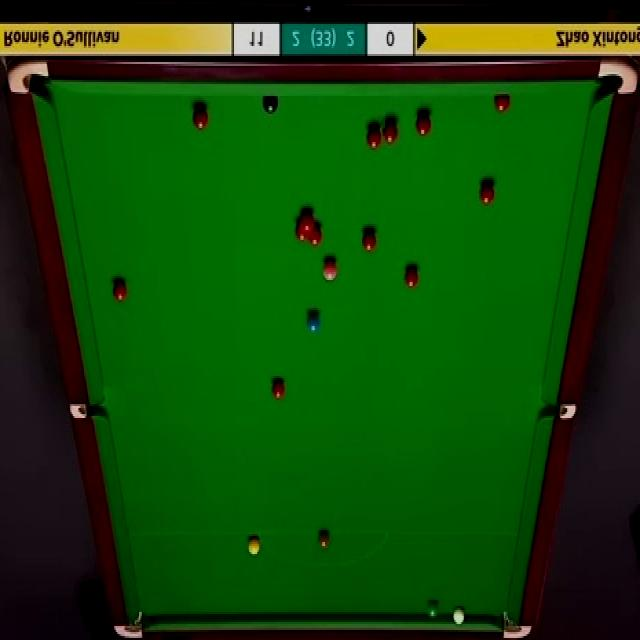black-ball: (262, 94, 280, 115)
blue-ball: (311, 312, 329, 334)
brown-ball: (318, 532, 330, 552)
green-ball: (426, 600, 439, 618)
pink-ball: (322, 256, 339, 281)
red-ball: (358, 229, 376, 255), (191, 105, 208, 132), (415, 110, 432, 136), (404, 265, 420, 291), (366, 124, 382, 150), (479, 182, 496, 206), (112, 280, 126, 305), (294, 218, 308, 242), (272, 376, 284, 403), (309, 222, 322, 246), (493, 97, 511, 114), (300, 210, 316, 229), (382, 128, 396, 149)
white-ball: (453, 606, 467, 626)
yellow-ball: (247, 538, 259, 554)
